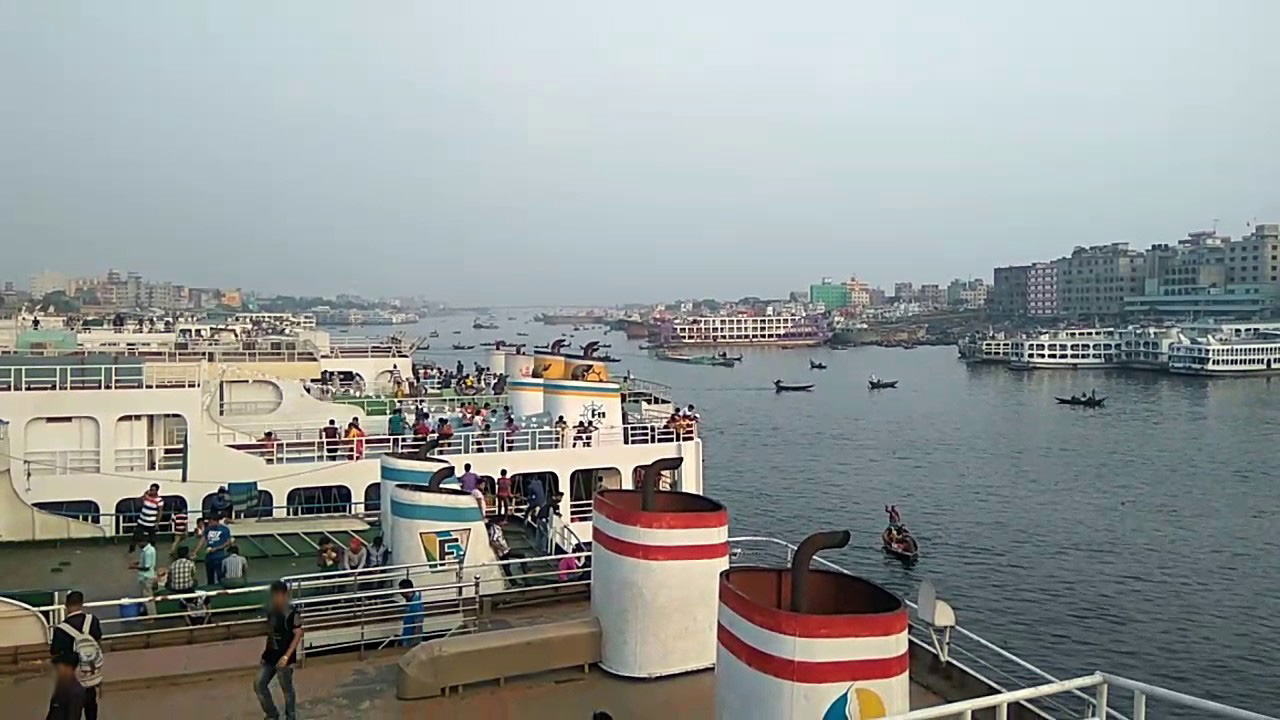boat: (883, 520, 919, 568), (1056, 391, 1113, 409), (772, 380, 816, 394), (702, 350, 746, 364), (868, 378, 901, 391), (808, 357, 830, 369)
launch: (1, 456, 1272, 717), (1, 335, 705, 538), (1, 326, 427, 418), (642, 316, 827, 352), (1005, 328, 1129, 376), (1167, 330, 1276, 379), (1116, 328, 1174, 373), (963, 337, 1018, 365)
